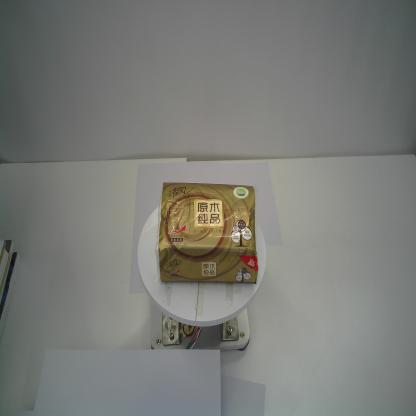Tissue: (154, 180, 259, 284)
